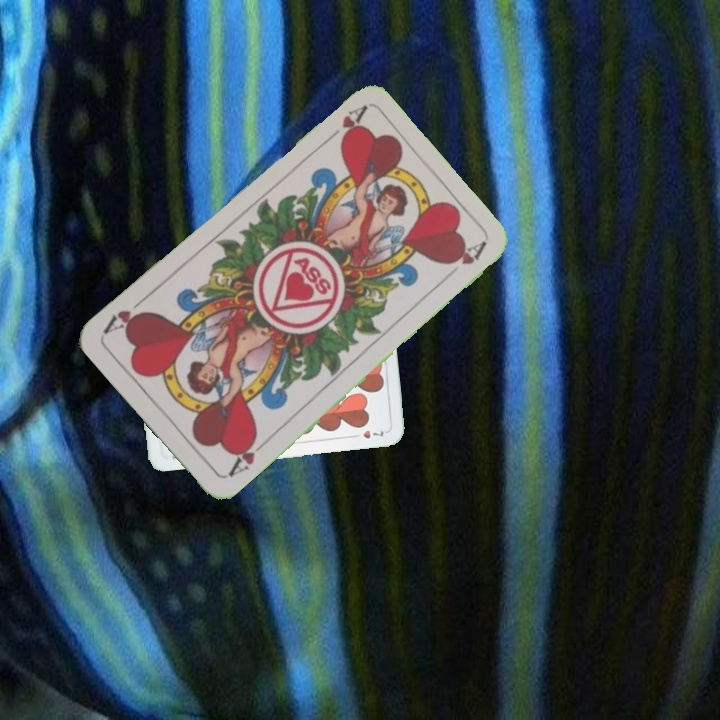HA: (224, 431, 272, 480), (319, 102, 369, 147)
